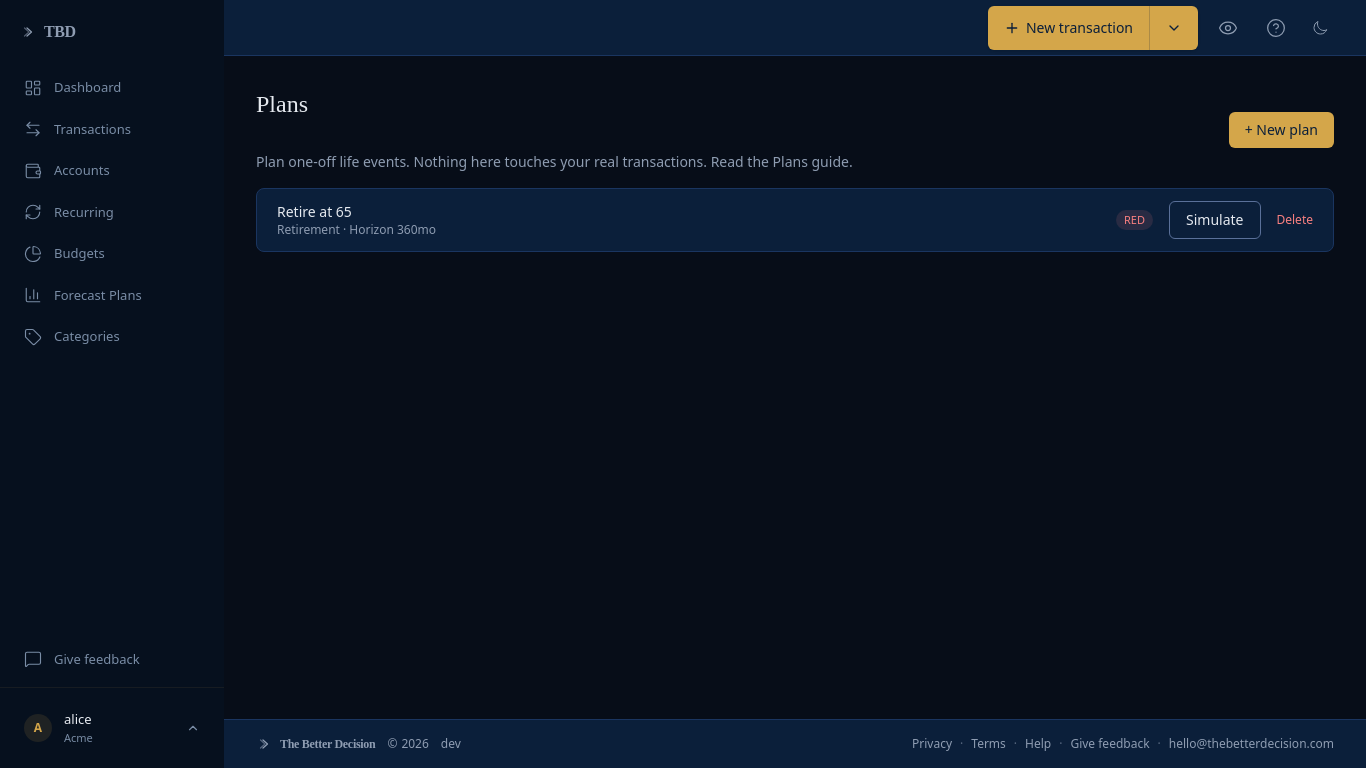
/plans page › retirement curve editor rejects out-of-order date entries
Expected: the text "Retire at 65" is shown, top-left (277, 202), bottom-right (352, 221)
Click the button "Retire at 65 Retirement · Horizon 360mo" at (314, 212), box top-left (277, 202), bottom-right (1100, 238)
(page scrolled)
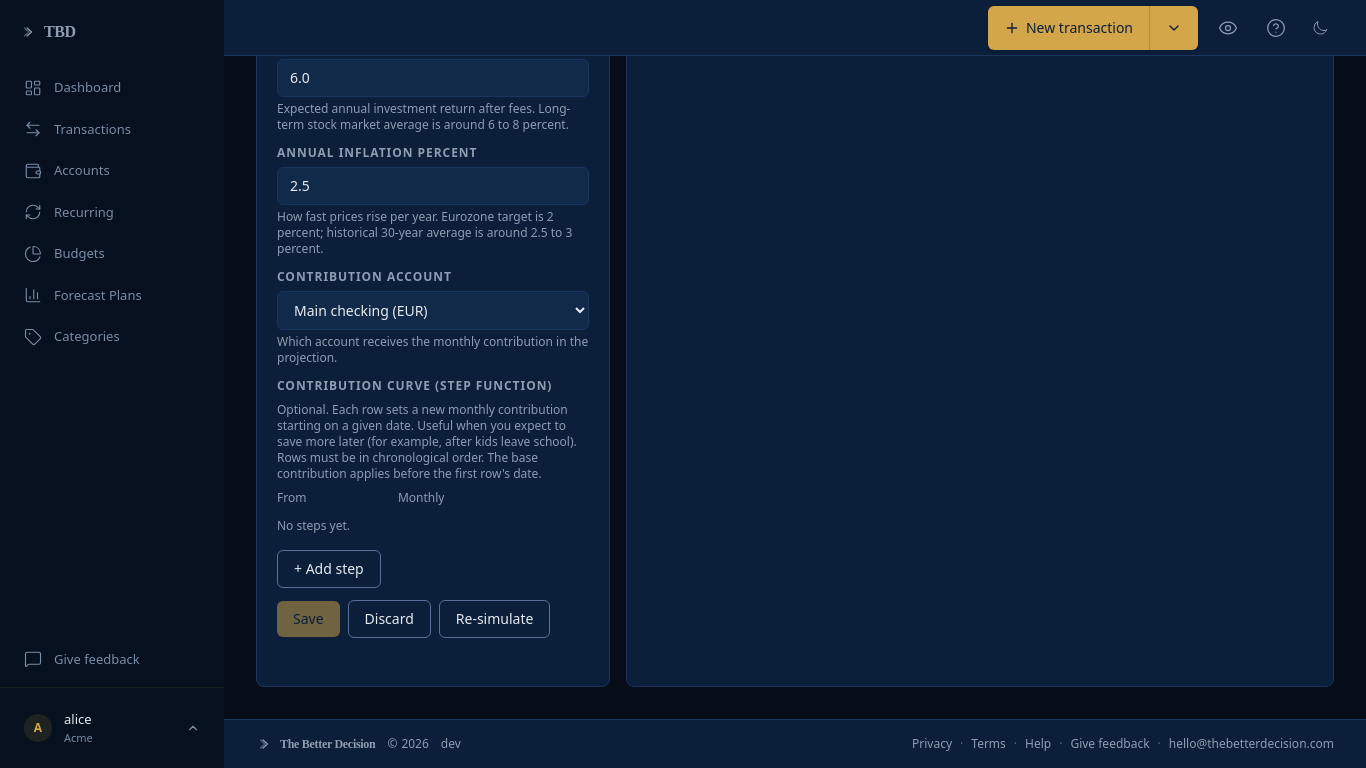
Click the button with test id "ret-curve-add" at (329, 569), box top-left (277, 550), bottom-right (381, 588)
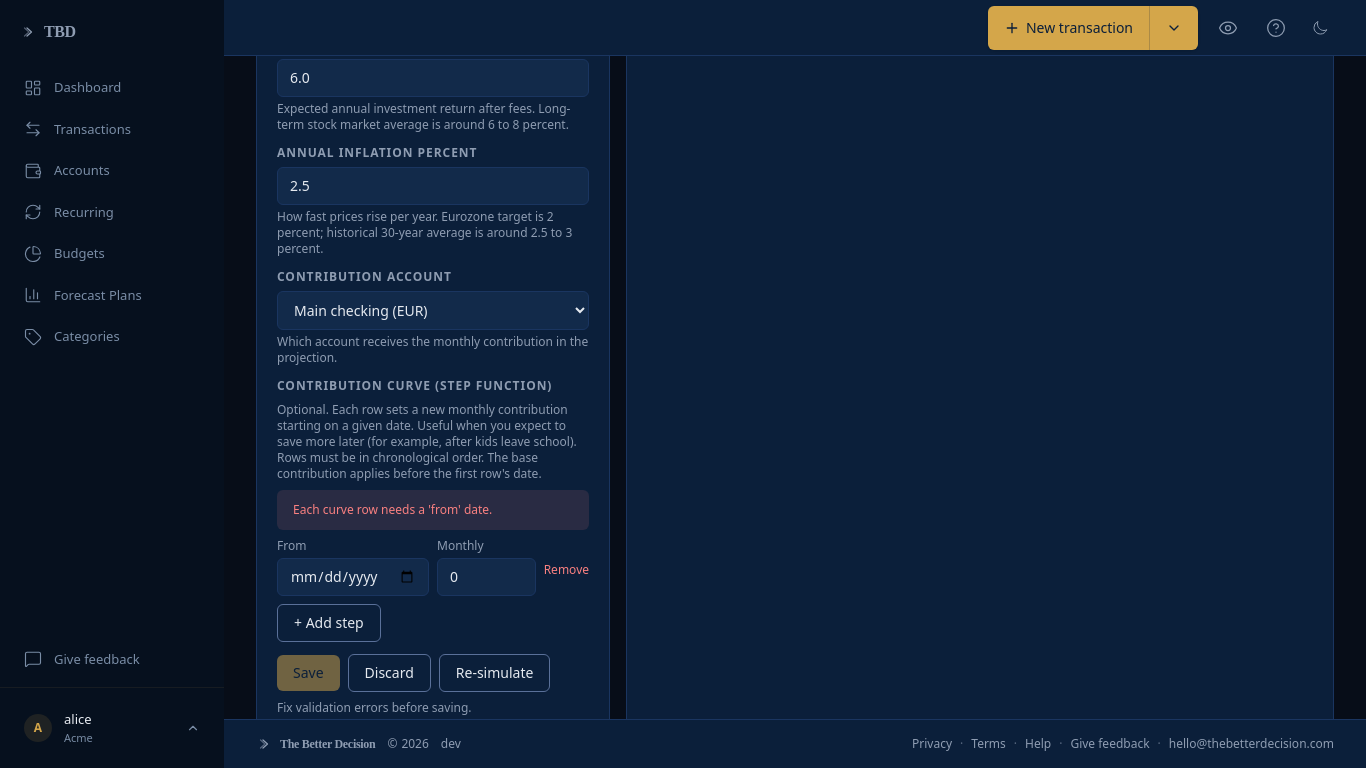
Click the button with test id "ret-curve-add" at (329, 623), box top-left (277, 604), bottom-right (381, 642)
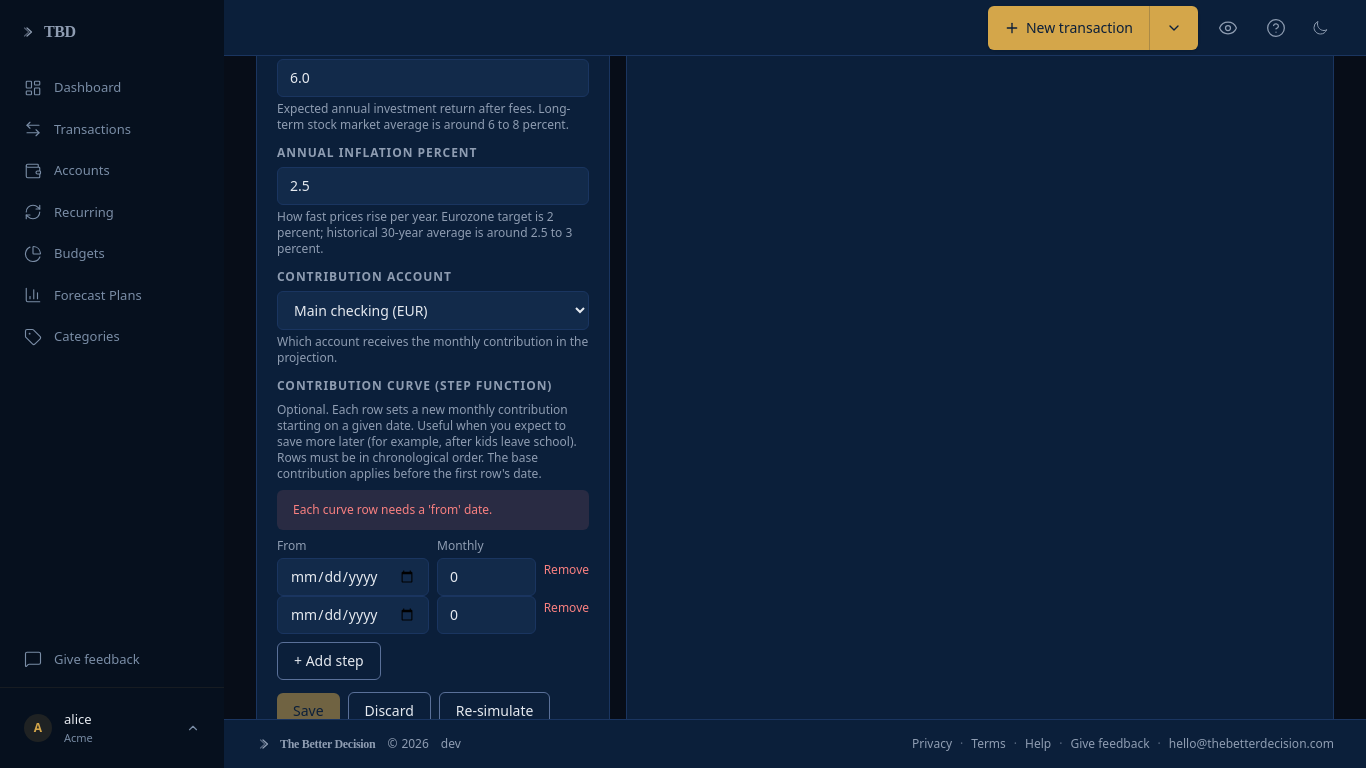
Type "2030-01-01" into the date field with test id "ret-curve-from-0" at (353, 577), box top-left (277, 558), bottom-right (429, 596)
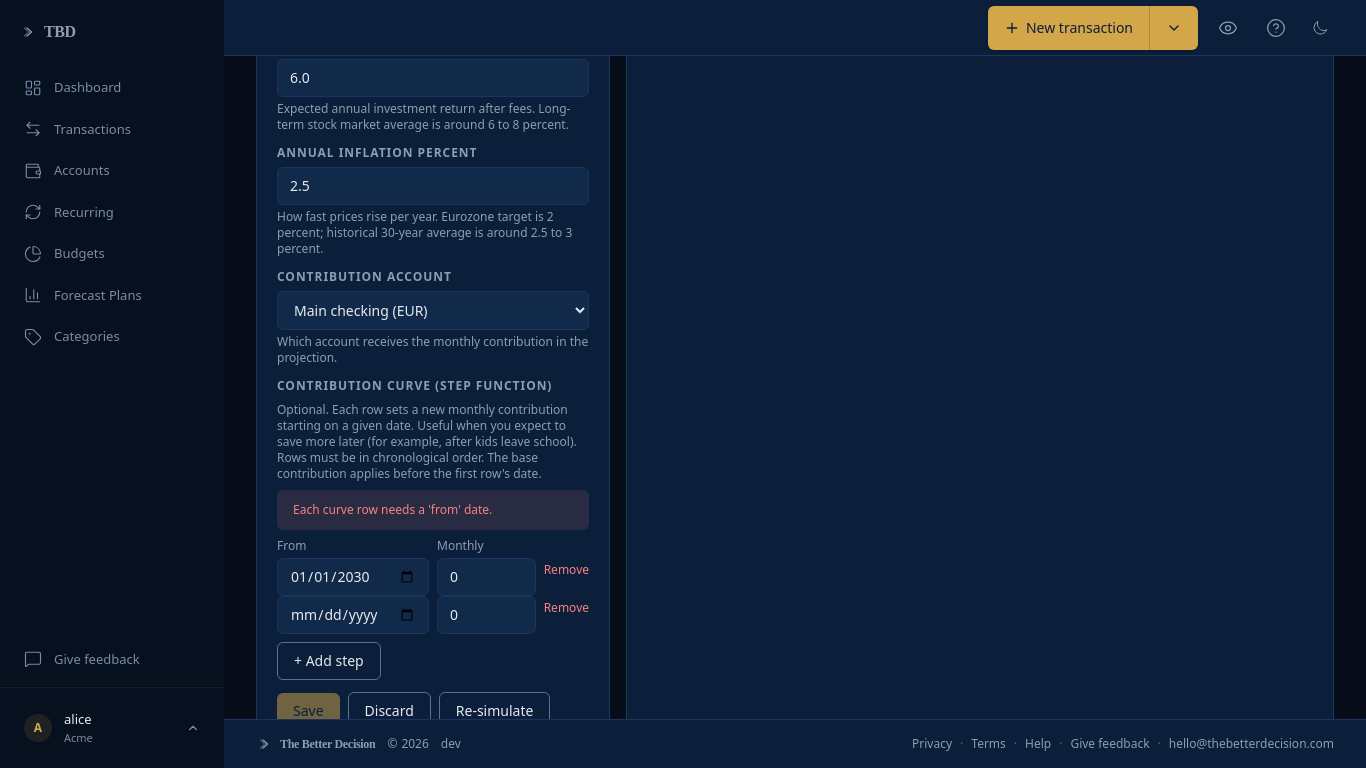
Type "2028-01-01" into the date field with test id "ret-curve-from-1" at (353, 615), box top-left (277, 596), bottom-right (429, 634)
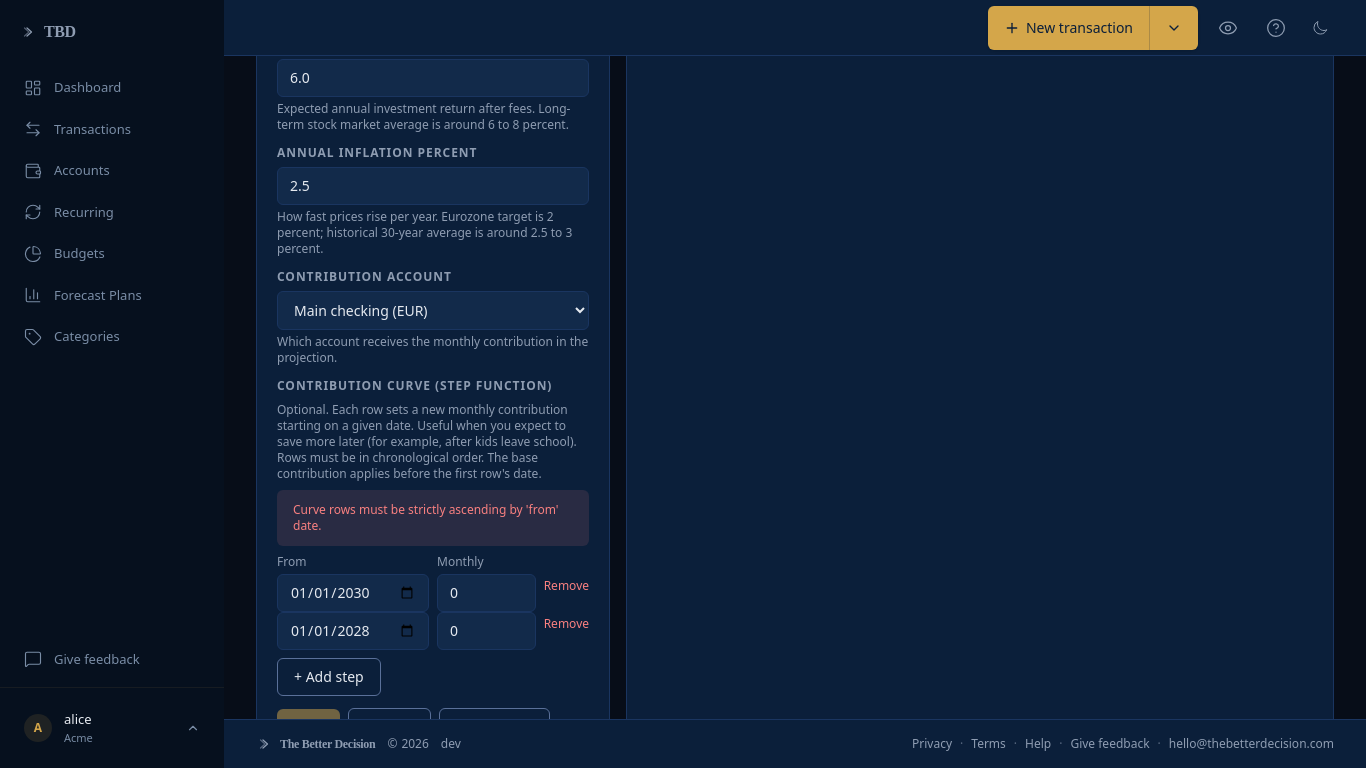
Expected: the text with test id "ret-curve-error" shows "ascending", top-left (293, 501), bottom-right (558, 534)
